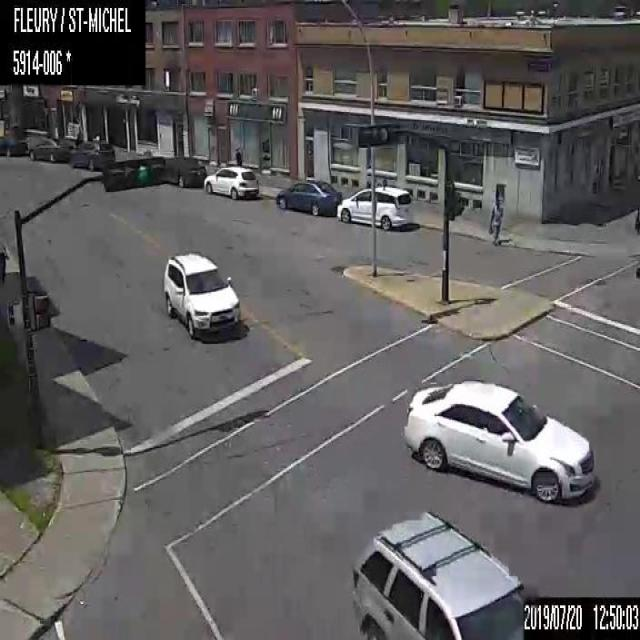pedestrian: (487, 190, 503, 247), (0, 246, 9, 286), (234, 146, 242, 166)
vehicle: (402, 377, 595, 503), (349, 508, 522, 639), (160, 250, 240, 338), (336, 184, 412, 231), (275, 177, 340, 223), (201, 164, 258, 199), (68, 137, 115, 171), (162, 153, 207, 187), (27, 136, 72, 162), (0, 132, 29, 157)
